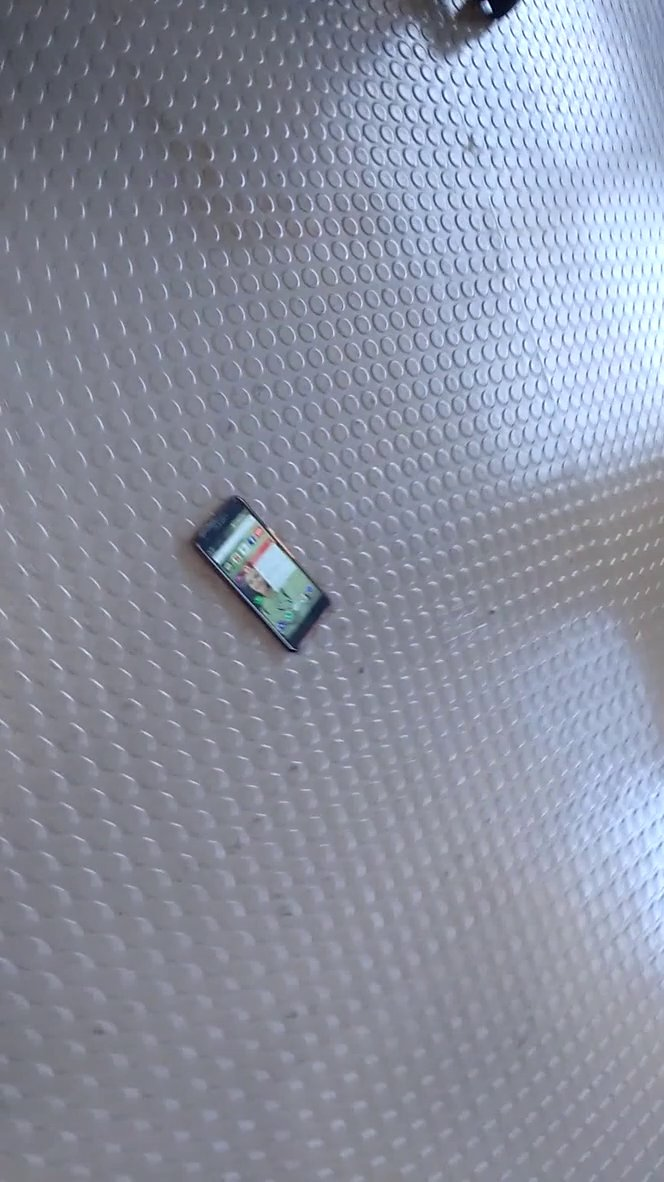phone: (182, 491, 346, 675)
